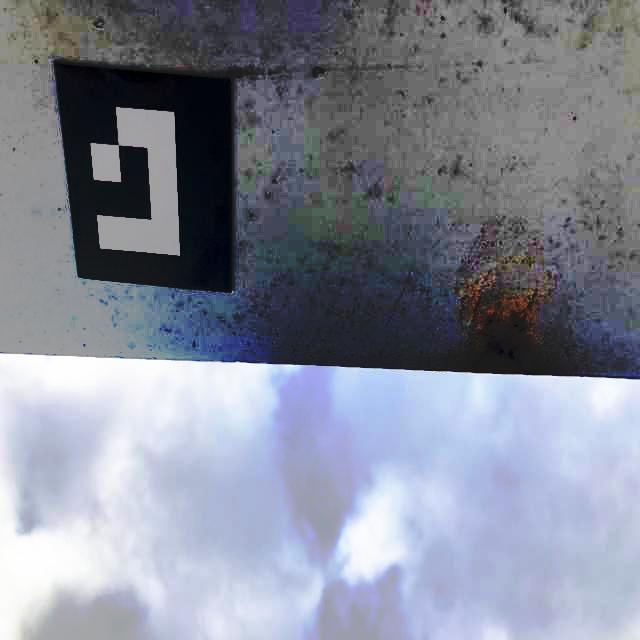Corrosion: (465, 304, 546, 371)
